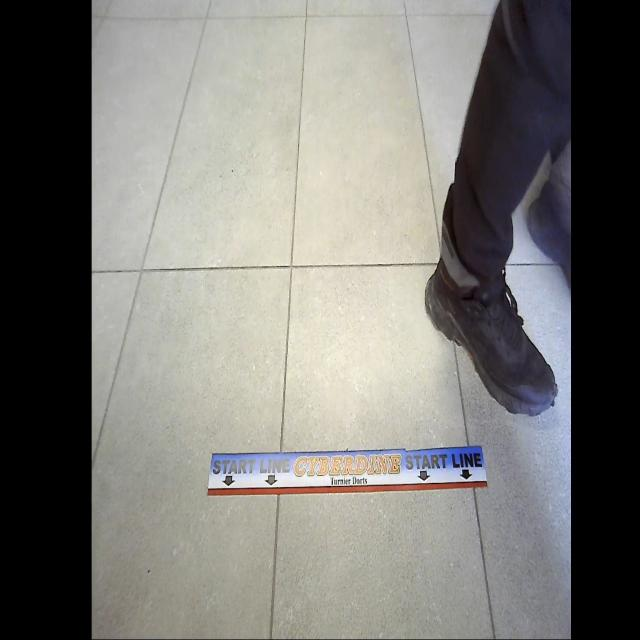foot: (423, 251, 559, 420)
